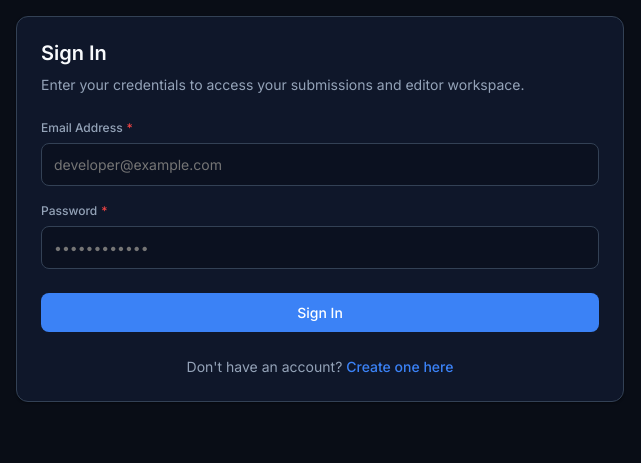
Test: LoginPage › validates email syntax client-side
Type "not-an-email" into the field labelled "Email Address*".
click(320, 164); type("not-an-email")  # box [41, 143, 599, 186]
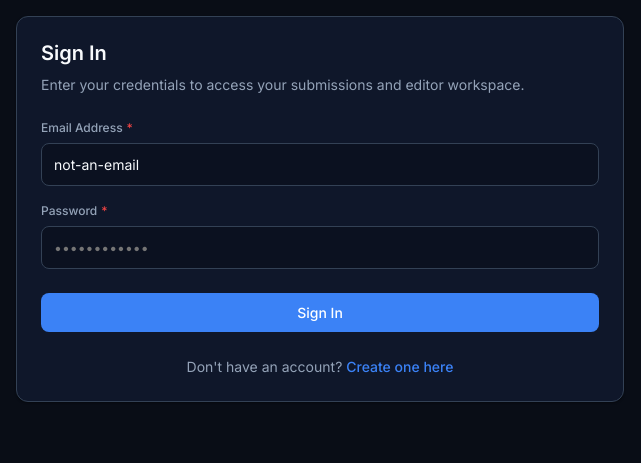
Click the button "Sign In".
click(320, 312)  # box [41, 293, 599, 332]
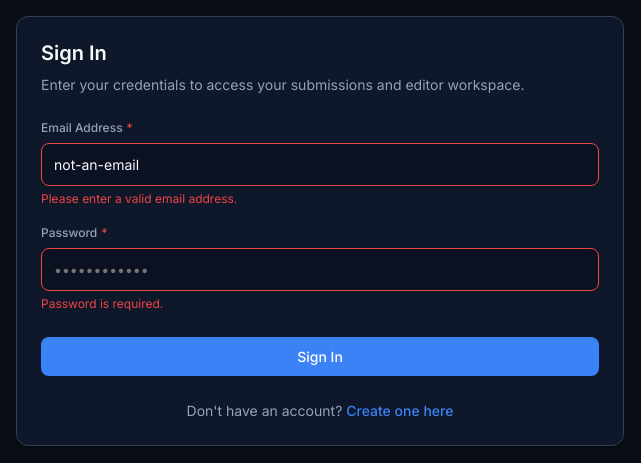
Expected: the text "Please enter a valid email address." is shown, [41, 191, 237, 206]
